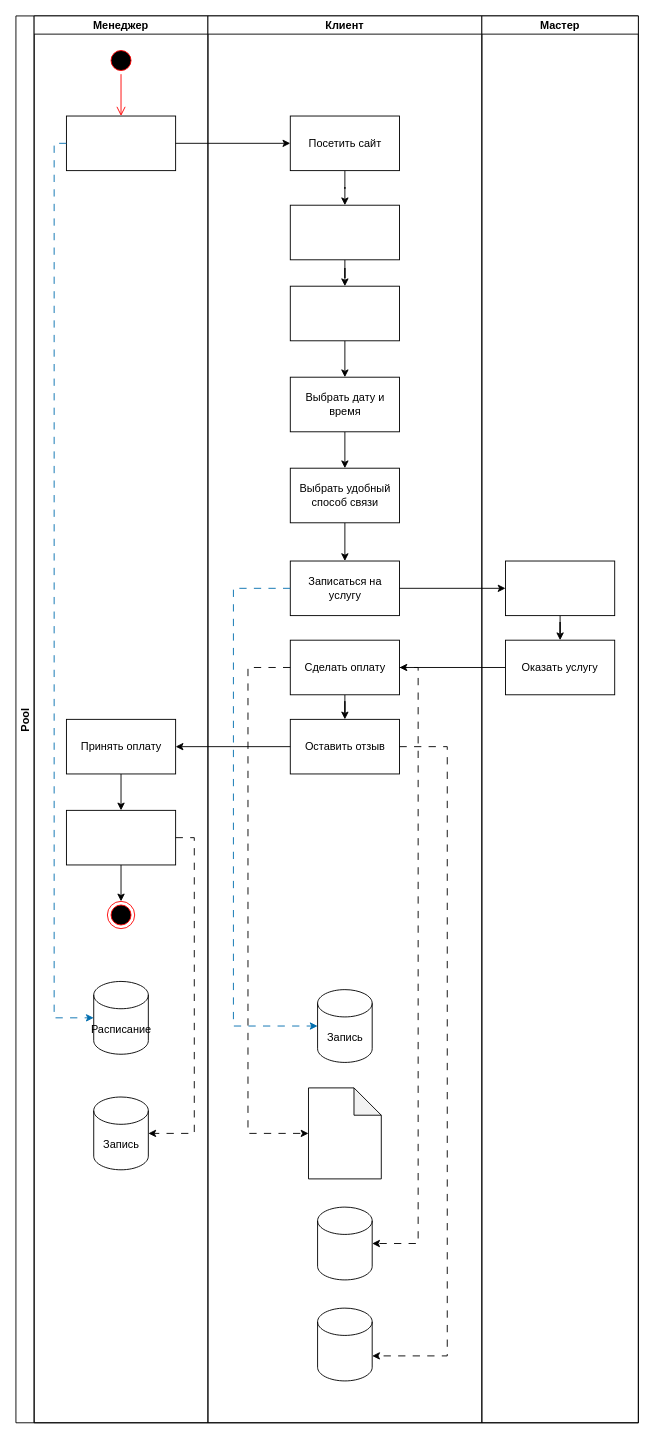
Image size: 654x1439. Some labels were removed from this diagram. The shapes that lost their labels are listed below. From the top down, each one's centre as x and y in pixels, then its label:
the point at 121,143: Составить расписание мастеров
the point at 344,232: Выбрать услугу
the point at 344,313: Выбрать мастера
the point at 560,588: Посмотреть забронированные слоты
the point at 121,837: Проставить отметку о выполнении услугу
the point at 344,1133: Чек
the point at 344,1243: Начисление
the point at 344,1344: Отзыв
